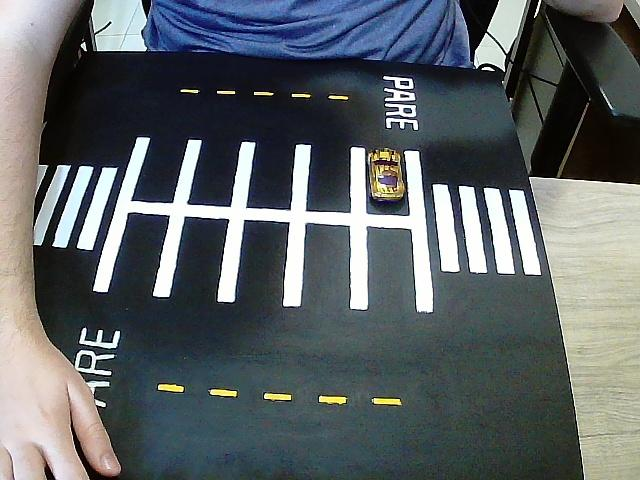Carro: (369, 148, 406, 203)
